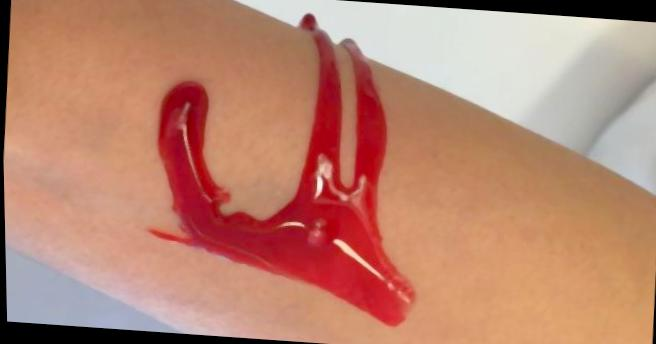Fire: (144, 13, 415, 328)
